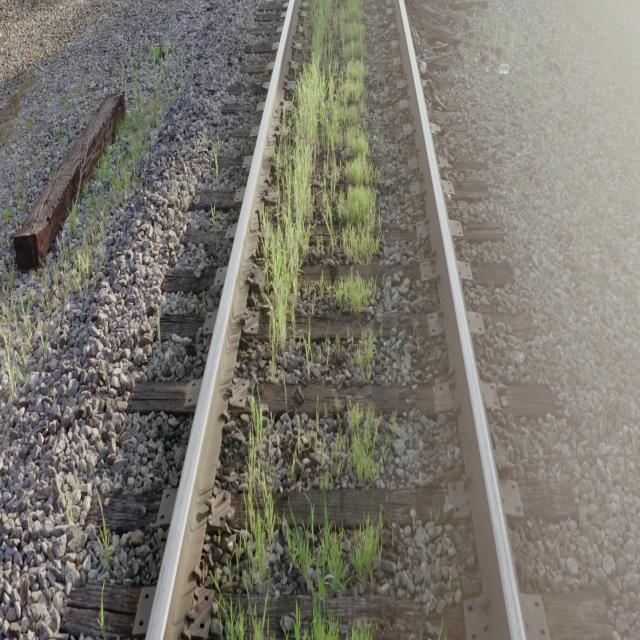Plant: (260, 0, 380, 376), (281, 516, 381, 640), (241, 391, 281, 587), (316, 402, 380, 487), (216, 593, 270, 640), (332, 273, 375, 316), (311, 598, 340, 640), (355, 329, 374, 380), (350, 622, 375, 638)
